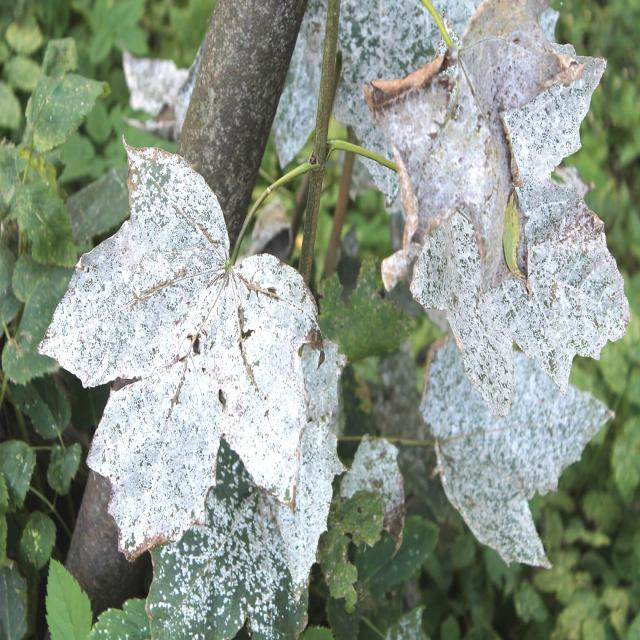Powdery Mildew: (335, 0, 615, 570), (36, 134, 326, 563)
